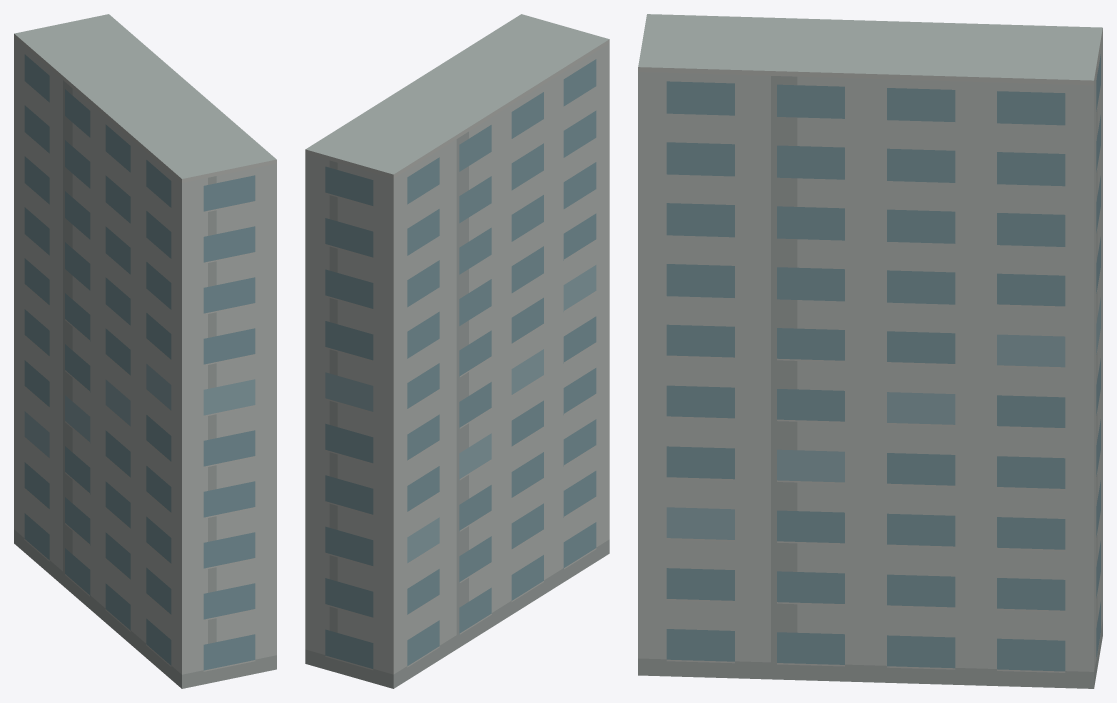
File: survey-upis-32836701.glb
3 views of the same model, side by side, from view 1: azimuth 30°, elevation 25°; view 2: azimuth 150°, elevation 25°; view 3: azimuth 270°, elevation 25° (orthographic). The views are drawn at different scales.
Visible parts, largest first — view 1: survey-upis-32836701.tmp; view 2: survey-upis-32836701.tmp; view 3: survey-upis-32836701.tmp.
Boxes of the visible parts, x1,y1,x2,y2 form: survey-upis-32836701.tmp: (14,14,276,688); survey-upis-32836701.tmp: (305,14,609,688); survey-upis-32836701.tmp: (638,14,1102,688).
Size of the model in its own units: 7.16 by 30.5 by 21.12.
